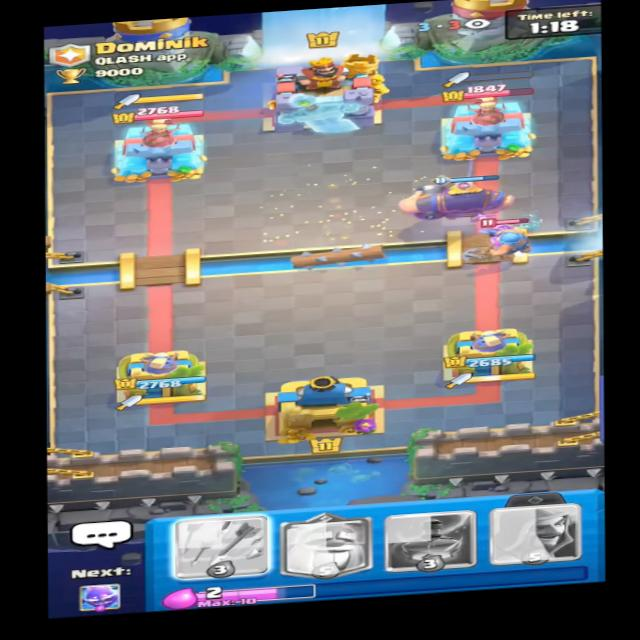Littleprince: (474, 203, 528, 250)
